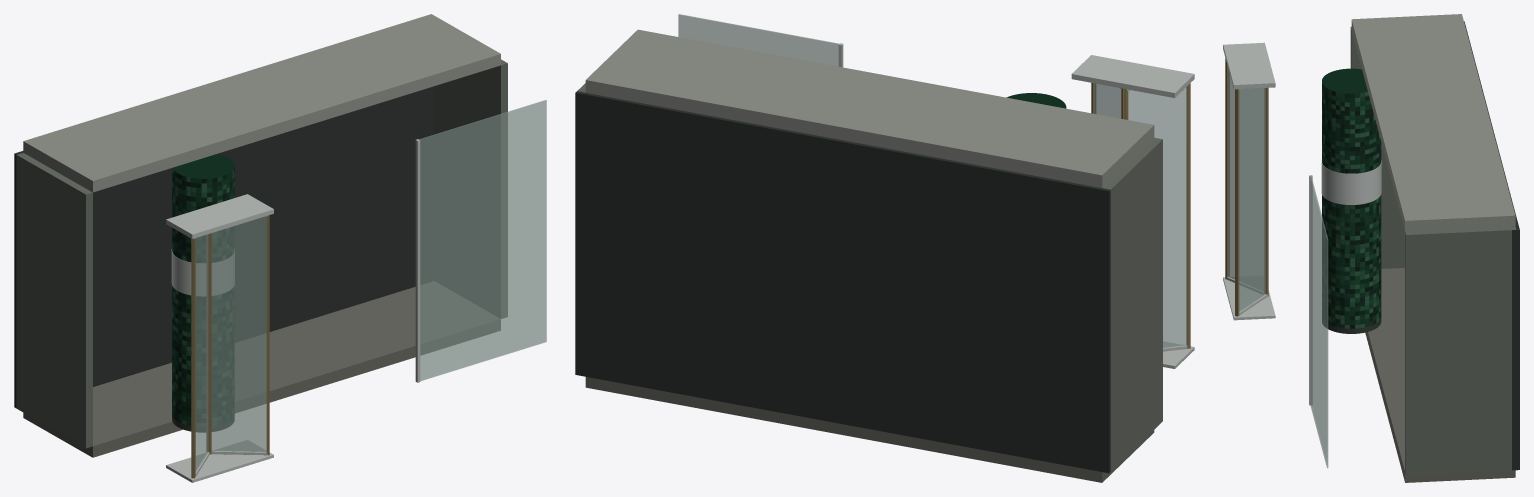
Rendered from d03-center-gai-frontage.glb.
3 views of the same model, side by side, from view 1: azimuth 30°, elevation 25°; view 2: azimuth 150°, elevation 25°; view 3: azimuth 270°, elevation 25° (orthographic). The views are drawn at different scales.
Parts seen in each view (by area): view 1: Nishimura_NEUTRAL_DEPTH_CLOSURE_estimated, Nishimura_right_glazed_field_ESTIMATED, Nishimura_NEUTRAL_LEFT_RETURN_estimated, Nishimura_NEUTRAL_CEILING_RETURN_estimated, Nishimura_NEUTRAL_FLOOR_RETURN_estimated, Mosaic ceramic column, Nishimura_right_glazed_field_left_strip_ESTIMATED, 1 bronze vertical edge, Mid-height silver sleeve, rear inferred; view 2: Nishimura_NEUTRAL_DEPTH_CLOSURE_estimated, Nishimura_NEUTRAL_CEILING_RETURN_estimated, Nishimura_NEUTRAL_LEFT_RETURN_estimated, Nishimura_right_glazed_field_ESTIMATED, Nishimura_NEUTRAL_FLOOR_RETURN_estimated, Nishimura_right_glazed_field_left_strip_ESTIMATED, 1 bronze vertical edge; view 3: Nishimura_NEUTRAL_LEFT_RETURN_estimated, Nishimura_NEUTRAL_CEILING_RETURN_estimated, Mosaic ceramic column, Nishimura_right_glazed_field_ESTIMATED, Nishimura_NEUTRAL_FLOOR_RETURN_estimated, Nishimura_right_glazed_field_left_strip_ESTIMATED, 1 bronze vertical edge, Nishimura_NEUTRAL_DEPTH_CLOSURE_estimated, Mid-height silver sleeve, rear inferred, Inferred dark bottom closure.
Part boxes in pixels (x1,y1,x2,y2): Nishimura_NEUTRAL_DEPTH_CLOSURE_estimated: (14,86,434,407); Nishimura_right_glazed_field_ESTIMATED: (195,100,546,471); Nishimura_NEUTRAL_LEFT_RETURN_estimated: (16,59,507,448); Nishimura_NEUTRAL_CEILING_RETURN_estimated: (23,14,500,192); Nishimura_NEUTRAL_FLOOR_RETURN_estimated: (23,281,500,457); Mosaic ceramic column: (172,154,234,426); Nishimura_right_glazed_field_left_strip_ESTIMATED: (166,139,420,482); 1 bronze vertical edge: (191,215,269,478); Mid-height silver sleeve, rear inferred: (171,249,234,296); Nishimura_NEUTRAL_DEPTH_CLOSURE_estimated: (575,91,1110,473); Nishimura_NEUTRAL_CEILING_RETURN_estimated: (585,29,1154,187); Nishimura_NEUTRAL_LEFT_RETURN_estimated: (577,83,1162,471); Nishimura_right_glazed_field_ESTIMATED: (678,14,1186,347); Nishimura_NEUTRAL_FLOOR_RETURN_estimated: (585,377,1154,482); Nishimura_right_glazed_field_left_strip_ESTIMATED: (838,43,1194,368); 1 bronze vertical edge: (1091,83,1190,348); Nishimura_NEUTRAL_LEFT_RETURN_estimated: (1350,26,1516,475); Nishimura_NEUTRAL_CEILING_RETURN_estimated: (1351,14,1515,231); Mosaic ceramic column: (1322,68,1381,328); Nishimura_right_glazed_field_ESTIMATED: (1228,68,1328,468); Nishimura_NEUTRAL_FLOOR_RETURN_estimated: (1365,268,1515,482); Nishimura_right_glazed_field_left_strip_ESTIMATED: (1223,42,1312,405); 1 bronze vertical edge: (1225,58,1268,316); Nishimura_NEUTRAL_DEPTH_CLOSURE_estimated: (1464,21,1519,470); Mid-height silver sleeve, rear inferred: (1321,160,1381,204); Inferred dark bottom closure: (1322,317,1381,333).
Bounding box in the file's own units: 5.06 × 2.89 × 2.97.
10 materials, 1 textured.
